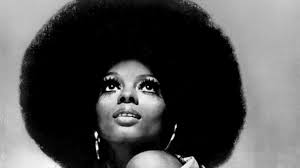black_female: (38, 9, 207, 168)
